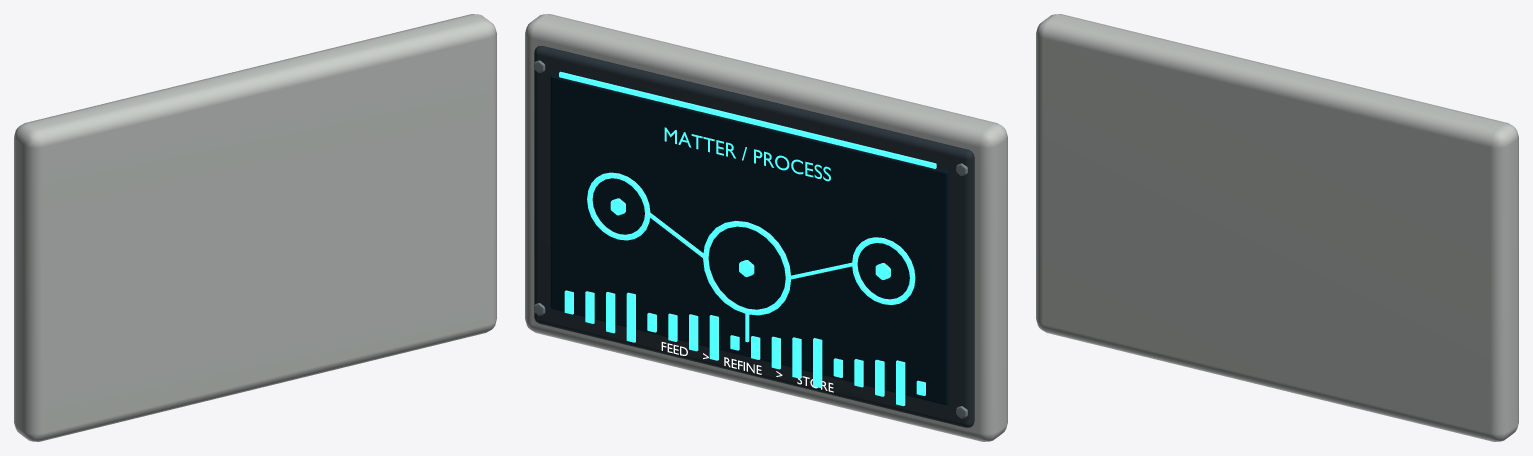
Rendered from SM_Dock_Material_Screen.fbx.
The picture shows the model from 3 angles, left to right: view 1: azimuth 30°, elevation 25°; view 2: azimuth 150°, elevation 25°; view 3: azimuth 330°, elevation 25°; orthographic projection.
Visible parts, largest first — view 1: SM_Dock_Material_Screen; view 2: SM_Dock_Material_Screen; view 3: SM_Dock_Material_Screen.
Boxes of the visible parts, <box> form: SM_Dock_Material_Screen: <box>14,14,496,441</box>; SM_Dock_Material_Screen: <box>525,14,1007,441</box>; SM_Dock_Material_Screen: <box>1036,14,1518,441</box>.
Size of the model in its own units: 114 by 13.3 by 72.
